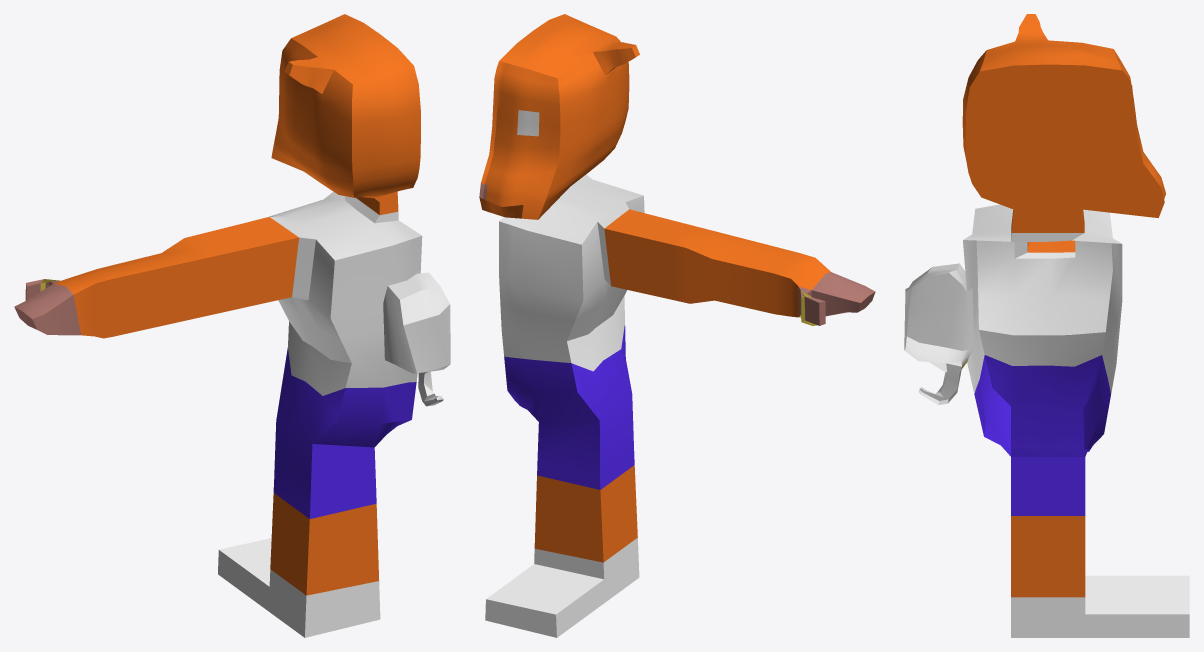
Rendered from Yakuin_Color.glb.
3 renders of one model, left to right at view 1: azimuth 30°, elevation 25°; view 2: azimuth 150°, elevation 25°; view 3: azimuth 270°, elevation 25°, orthographic. The views are drawn at different scales.
Parts seen in each view (by area): view 1: Cube; view 2: Cube; view 3: Cube.
Part boxes in pixels (x1,y1,x2,y2): Cube: [14, 14, 450, 637]; Cube: [479, 14, 875, 637]; Cube: [904, 14, 1189, 637].
Bounding box in the file's own units: 3.79 × 5.78 × 2.56.
1 material, 1 textured.
